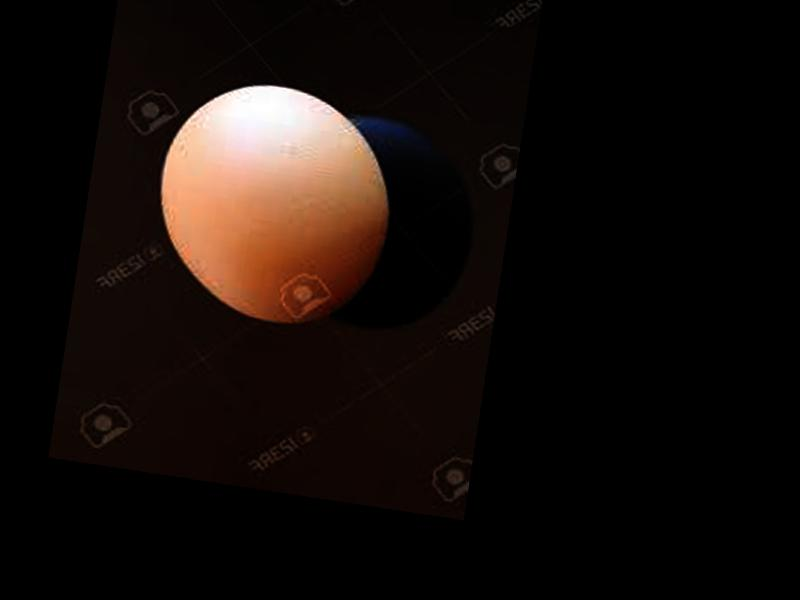Eggs: (142, 69, 408, 336)
